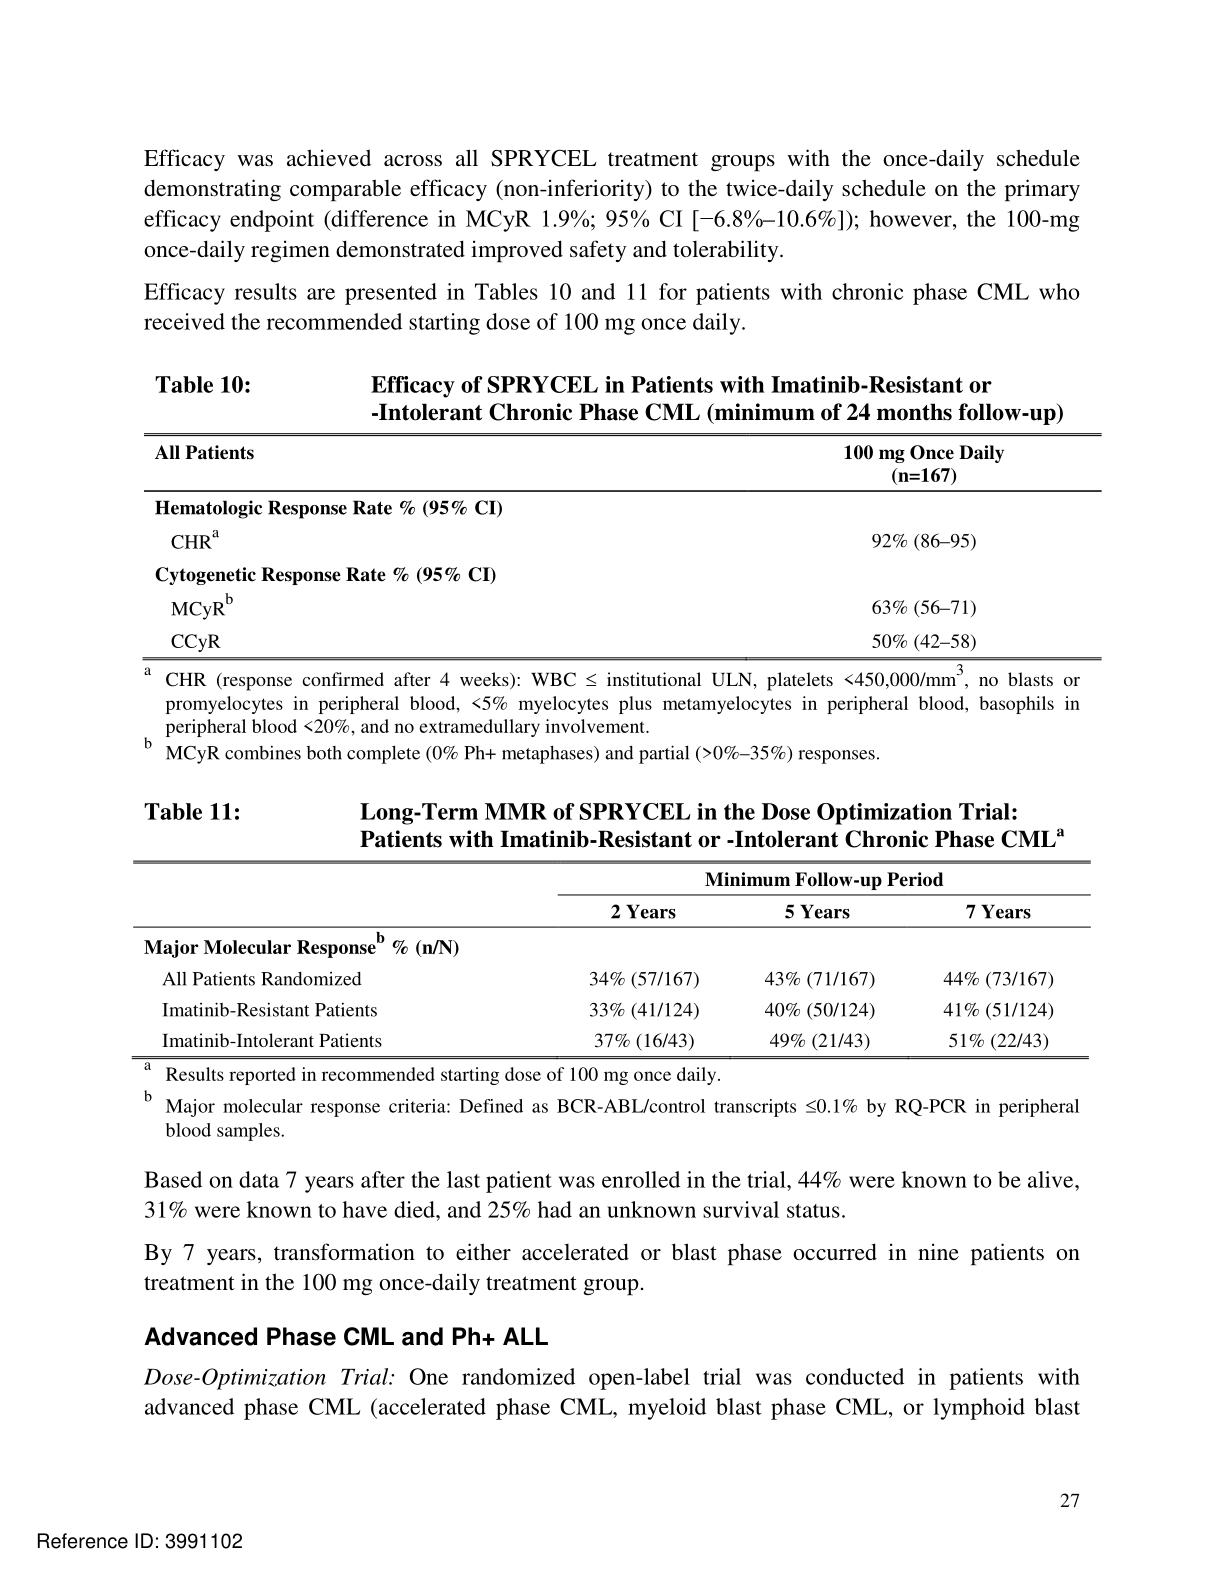partial_lined: (141, 431, 1103, 662)
partial_lined_merged_cells: (129, 858, 1092, 1061)
